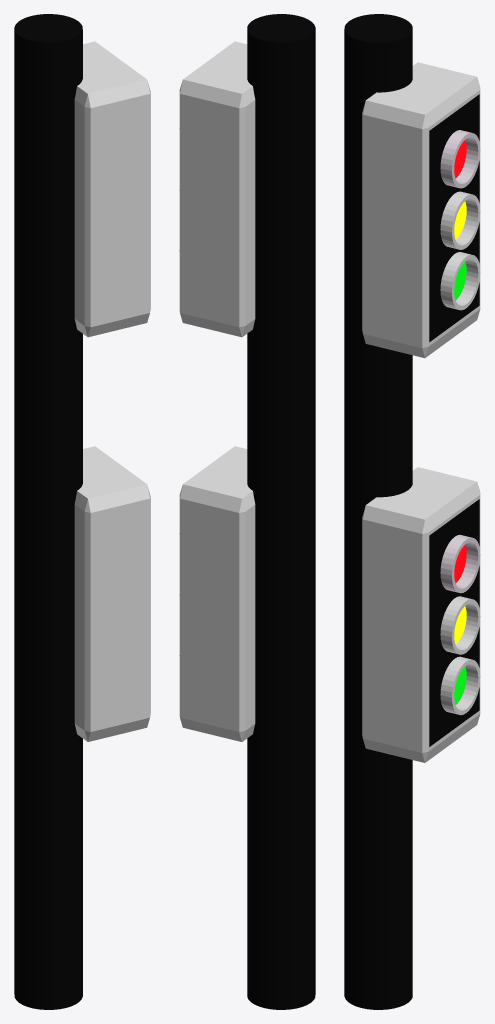
File: uk_traffic_light_1(double).fbx
The picture shows the model from 3 angles, left to right: view 1: azimuth 30°, elevation 25°; view 2: azimuth 150°, elevation 25°; view 3: azimuth 330°, elevation 25°; orthographic projection.
Visible parts, largest first — view 1: Cylinder, Cube, Cube.001; view 2: Cylinder, Cube, Cube.001; view 3: Cylinder, Cube.001, Cube, cone5, cone4, cone6, cone1, cone2, cone3.
Part boxes in pixels (x1,y1,x2,y2): Cylinder: (14,14,82,1009); Cube: (74,446,150,741); Cube.001: (74,41,150,337); Cylinder: (247,14,315,1009); Cube: (179,446,255,741); Cube.001: (179,41,255,337); Cylinder: (344,14,412,1009); Cube.001: (362,62,480,358); Cube: (362,467,480,762); cone5: (440,596,480,654); cone4: (440,534,480,593); cone6: (440,656,480,715); cone1: (440,130,480,188); cone2: (440,191,480,249); cone3: (440,252,480,310).
Bounding box in the file's own units: 7.1 × 56.08 × 6.09.
